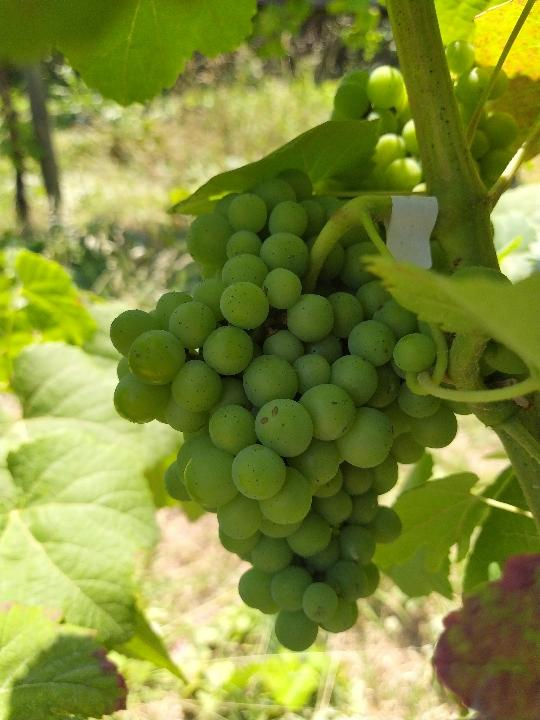grape: (109, 170, 471, 651)
